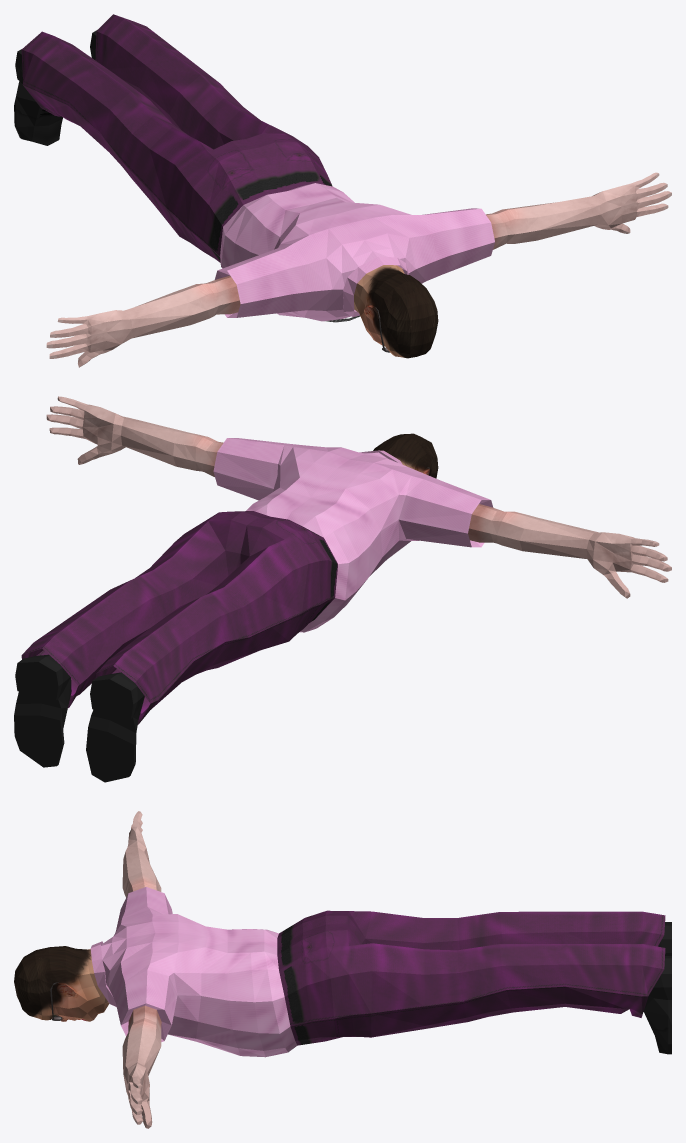
File: tomdrinman2_3kladyman_wtf.obj
3 views of the same model, one above another, from view 1: azimuth 30°, elevation 25°; view 2: azimuth 150°, elevation 25°; view 3: azimuth 270°, elevation 25° (orthographic). The views are drawn at different scales.
Parts seen in each view (by area): view 1: group1; view 2: group1; view 3: group1.
Boxes of the visible parts, x1=… form: group1: x1=14, y1=14, x2=671, y2=367; group1: x1=14, y1=396, x2=671, y2=782; group1: x1=14, y1=811, x2=671, y2=1128.
Bounding box in the file's own units: 660 × 141 × 641.
